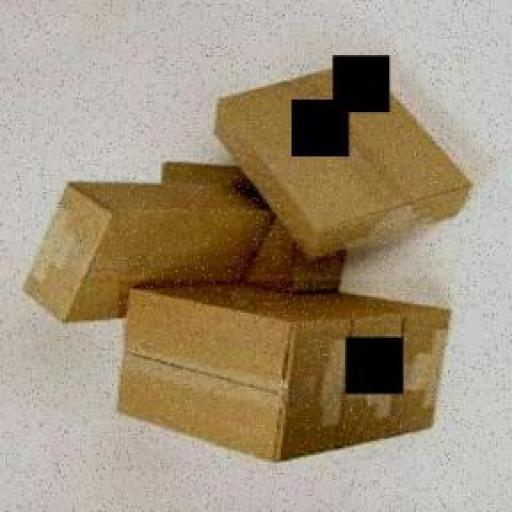box: (118, 280, 463, 472), (200, 50, 490, 266)
